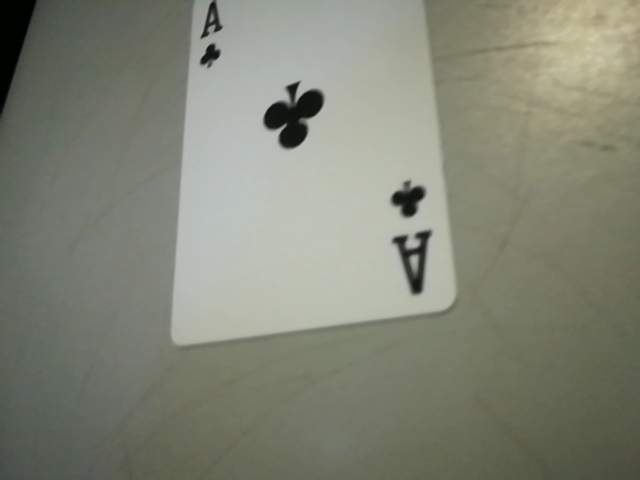mh a: (371, 165, 447, 310), (184, 0, 235, 74)
